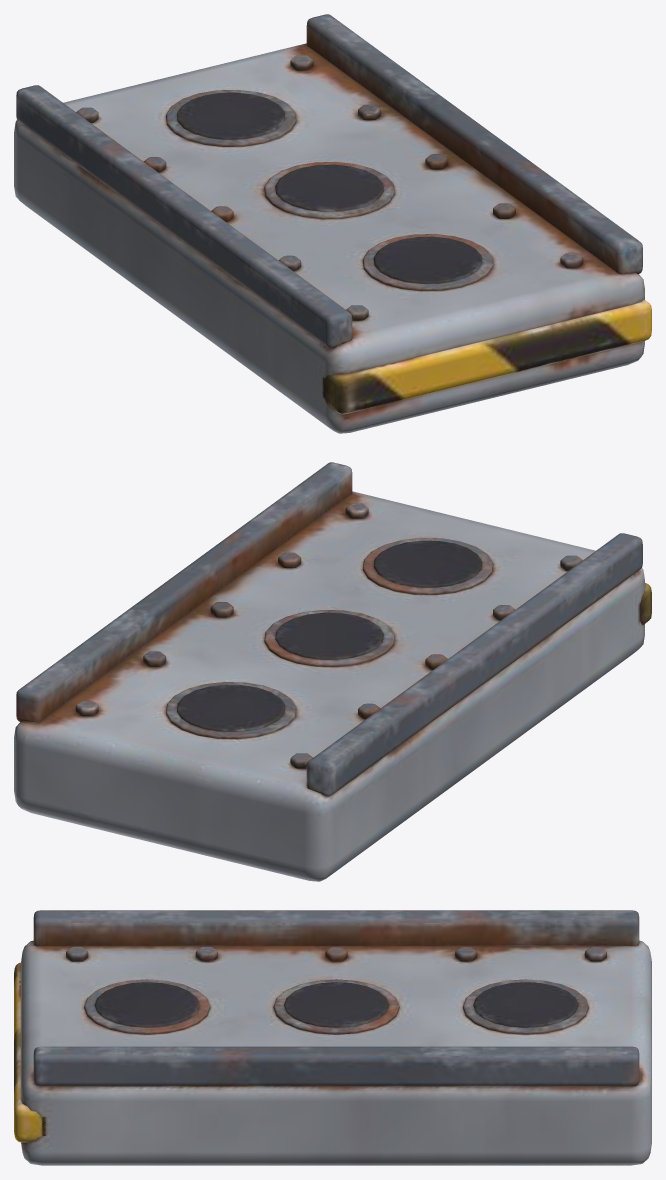
The model's file is slab.glb.
The picture shows the model from 3 angles, top to bottom: view 1: azimuth 30°, elevation 25°; view 2: azimuth 150°, elevation 25°; view 3: azimuth 270°, elevation 25°; orthographic projection. The views are drawn at different scales.
Visible parts, largest first — view 1: body; view 2: body; view 3: body.
Boxes of the visible parts, <box> form: body: <box>14,14,651,433</box>; body: <box>14,462,651,881</box>; body: <box>14,910,651,1165</box>.
Size of the model in its own units: 0.5 by 0.18 by 0.91.
1 material, 1 textured.
